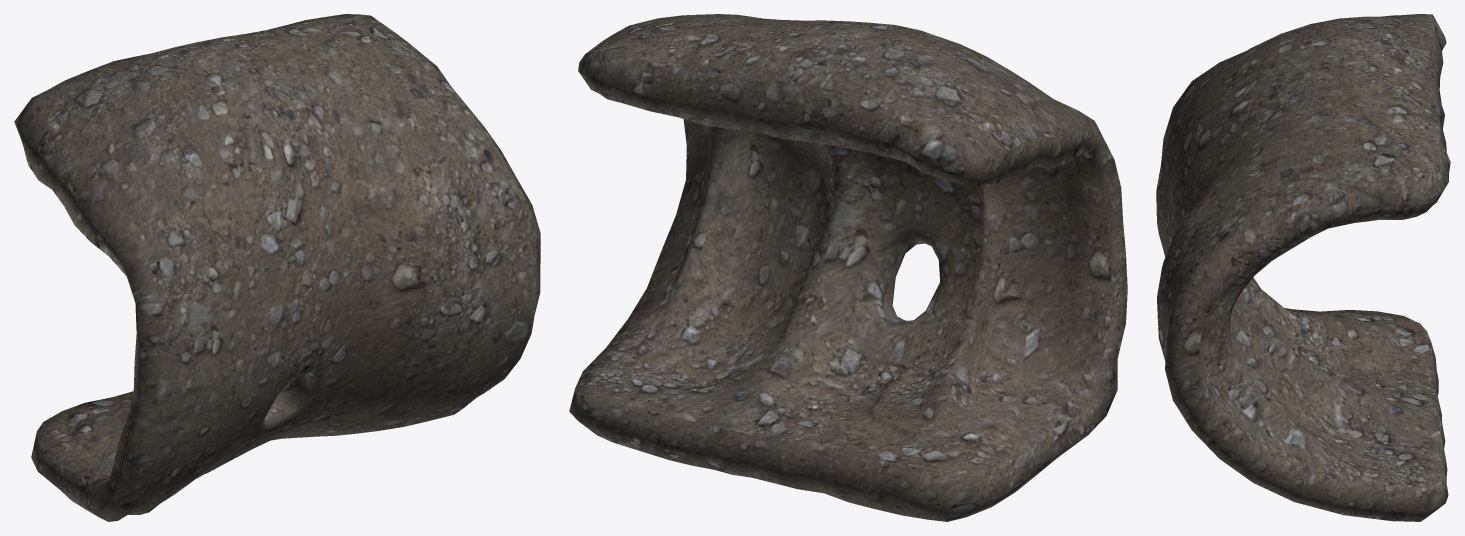
File: cave_module_side_ribbed_ghoulhole.dae
3 views of the same model, side by side, from view 1: azimuth 30°, elevation 25°; view 2: azimuth 150°, elevation 25°; view 3: azimuth 270°, elevation 25° (orthographic). The views are drawn at different scales.
Visible parts, largest first — view 1: side_ribbed_ghoul_hole; view 2: side_ribbed_ghoul_hole; view 3: side_ribbed_ghoul_hole.
Boxes of the visible parts, x1,y1,x2,y2 form: side_ribbed_ghoul_hole: (14, 14, 540, 521); side_ribbed_ghoul_hole: (569, 14, 1127, 521); side_ribbed_ghoul_hole: (1156, 14, 1450, 521).
Size of what is drawn, in the model's own units: 9.36 by 8.88 by 5.97.
